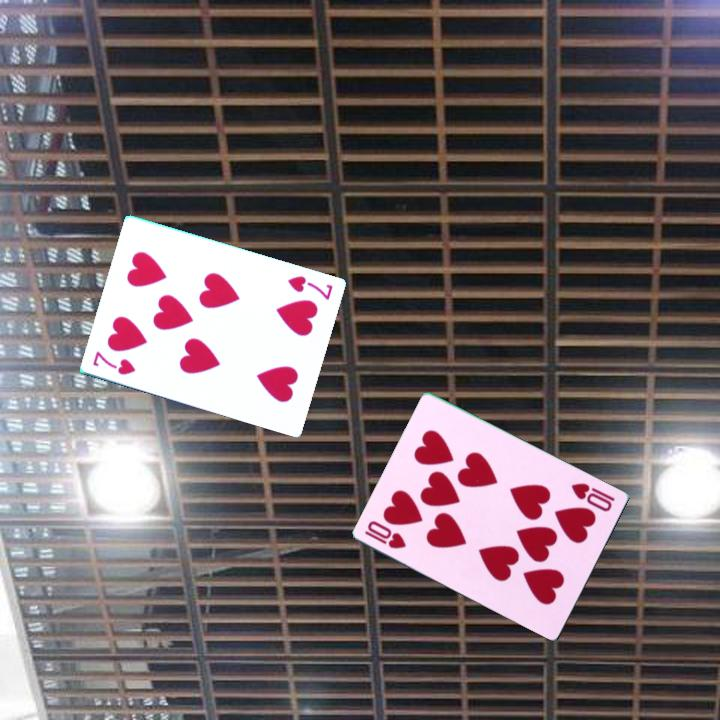10h: (568, 479, 618, 515), (361, 517, 410, 552)
7h: (284, 272, 336, 303), (90, 347, 139, 378)
